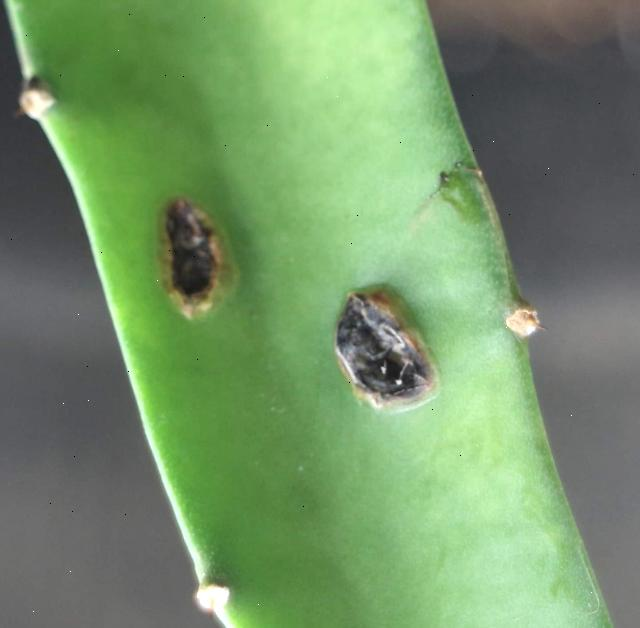stemcanker: (324, 280, 448, 425), (152, 194, 231, 321)
